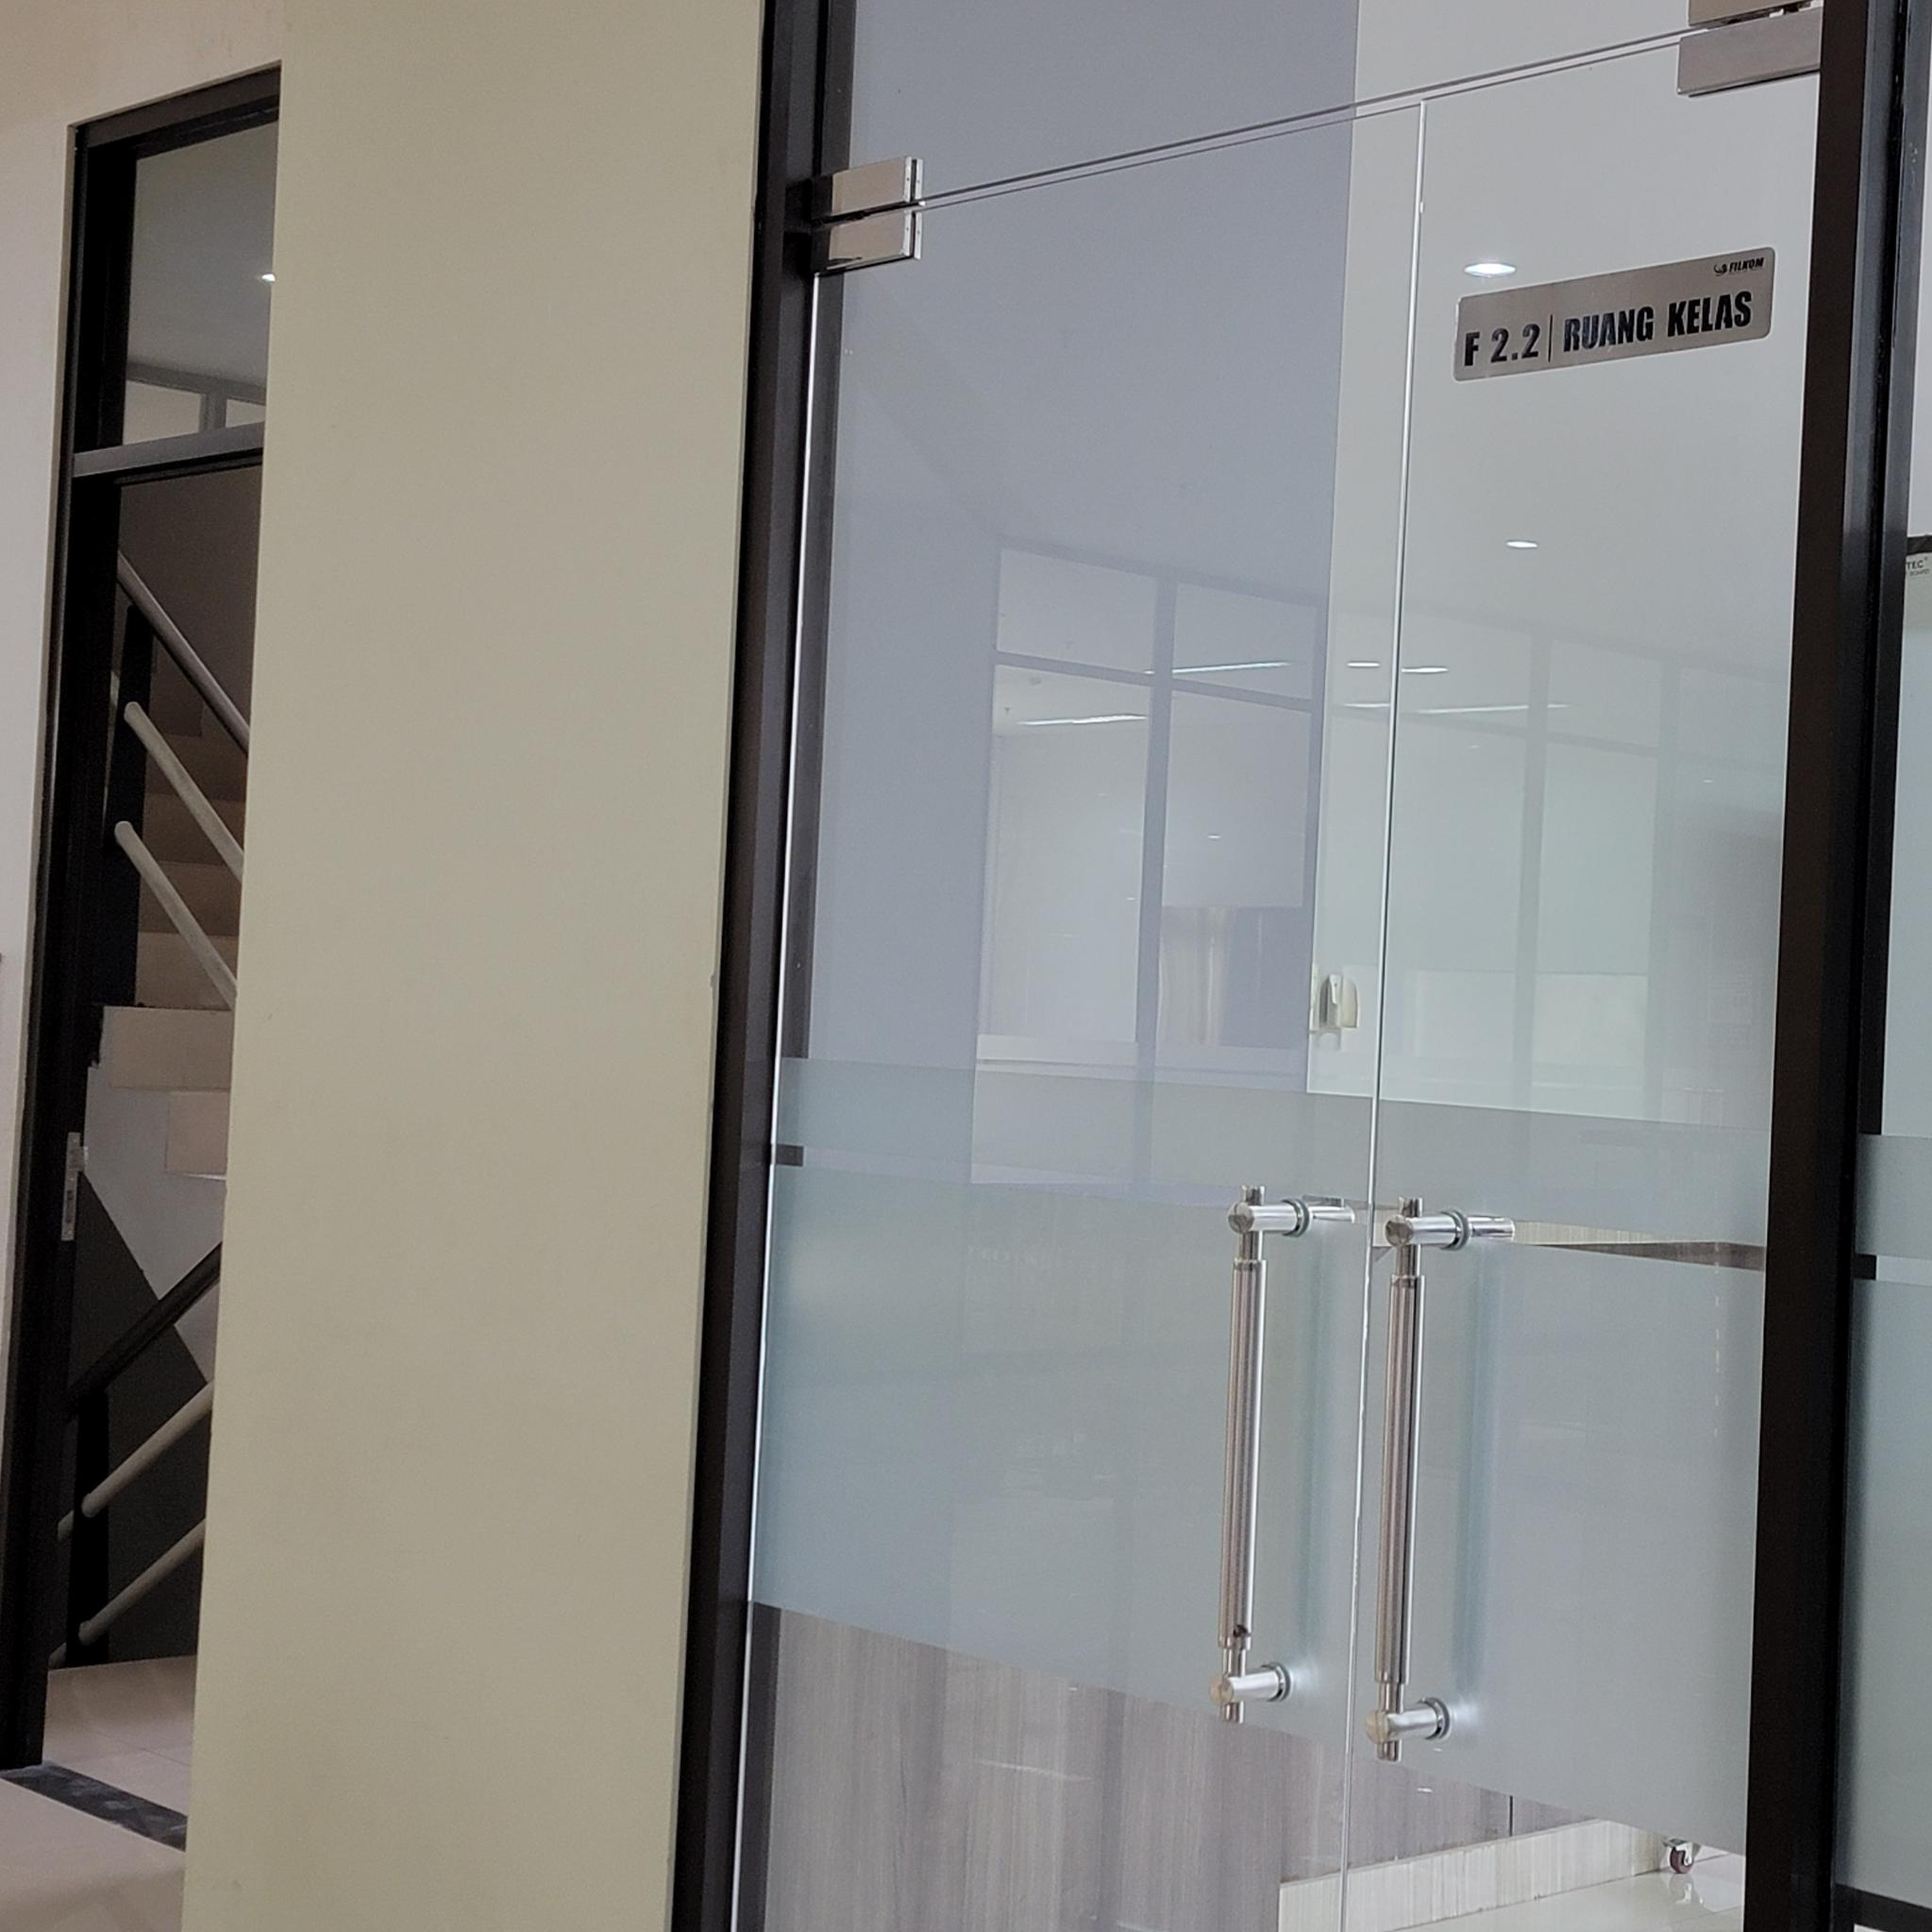plate: (1451, 246, 1776, 384)
